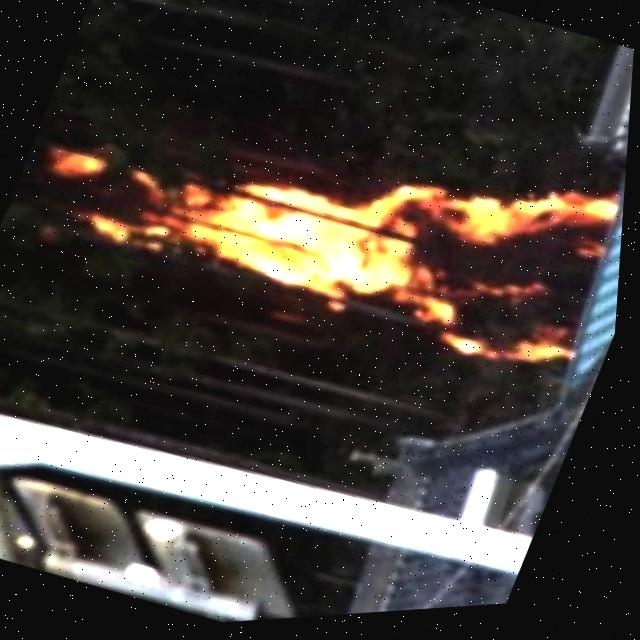Fire: (0, 5, 638, 430)
